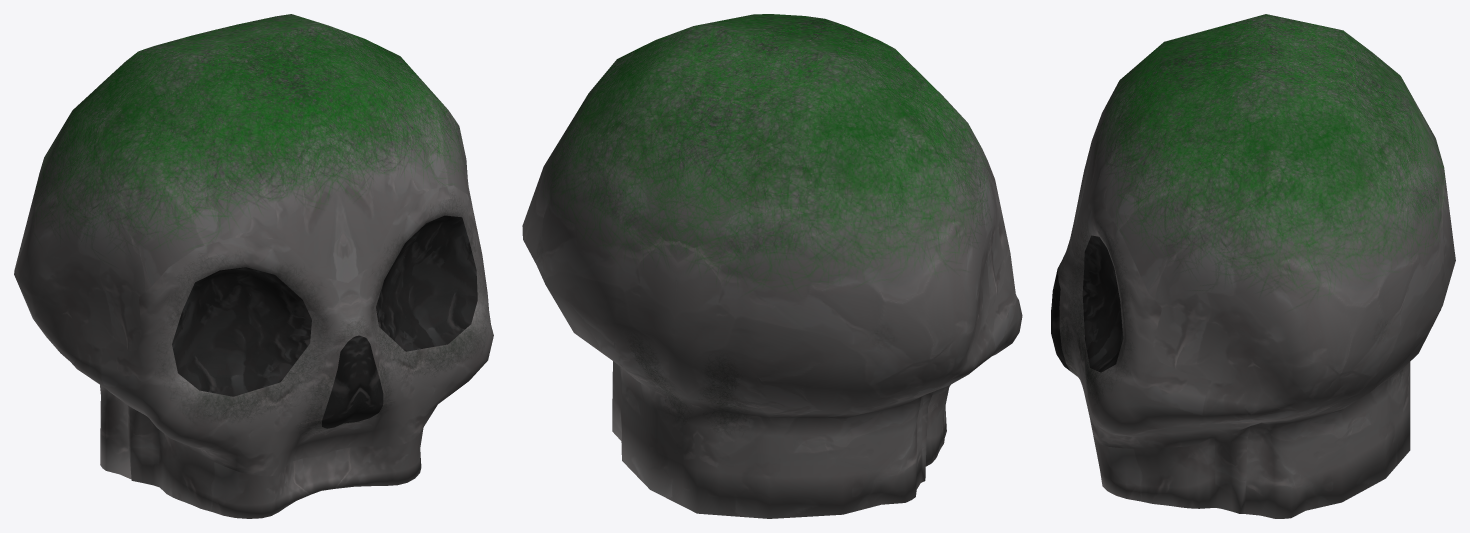
The model's file is Skullisland.glb.
The picture shows the model from 3 angles, left to right: view 1: azimuth 30°, elevation 25°; view 2: azimuth 150°, elevation 25°; view 3: azimuth 270°, elevation 25°; orthographic projection. The views are drawn at different scales.
Visible parts, largest first — view 1: Skull_island; view 2: Skull_island; view 3: Skull_island.
Part boxes in pixels (bbox=[...]): Skull_island: bbox=[14, 14, 493, 518]; Skull_island: bbox=[522, 14, 1022, 518]; Skull_island: bbox=[1051, 14, 1455, 518].
Bounding box in the file's own units: 20.94 × 19 × 17.26.
Materials: 2 (2 with a texture image).
